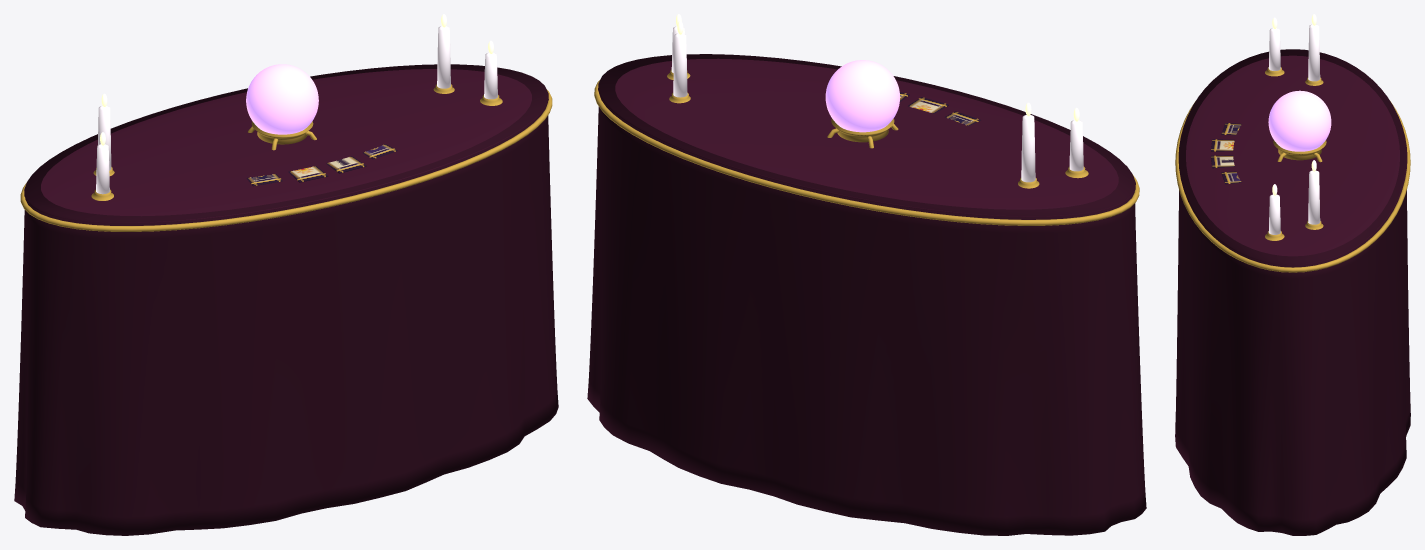
Rendered from prop_veronika_tarot_table.glb.
3 views of the same model, side by side, from view 1: azimuth 30°, elevation 25°; view 2: azimuth 150°, elevation 25°; view 3: azimuth 270°, elevation 25° (orthographic). The views are drawn at different scales.
Visible parts, largest first — view 1: prop_veronika_tarot_table; view 2: prop_veronika_tarot_table; view 3: prop_veronika_tarot_table.
Boxes of the visible parts, <box> form: prop_veronika_tarot_table: <box>14,14,558,535</box>; prop_veronika_tarot_table: <box>587,14,1146,535</box>; prop_veronika_tarot_table: <box>1175,14,1410,535</box>.
Size of the model in its own units: 1.73 by 1.24 by 0.7785.
8 materials, 2 textured.
